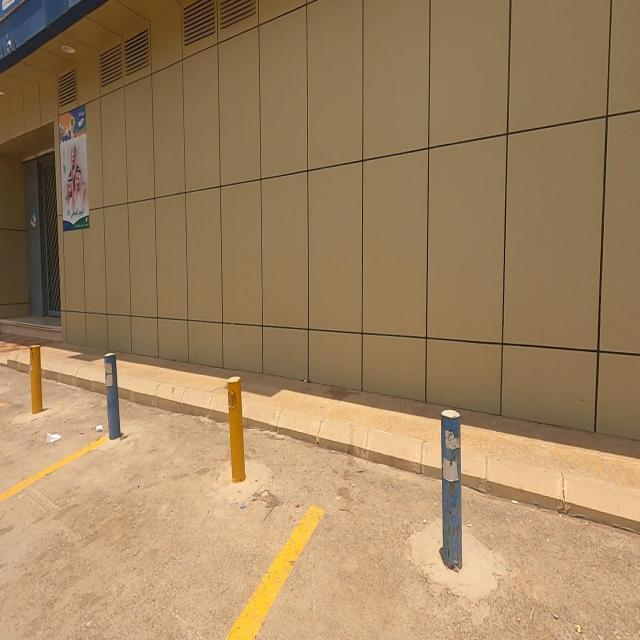debris: (15, 392, 90, 486), (80, 402, 120, 449)
